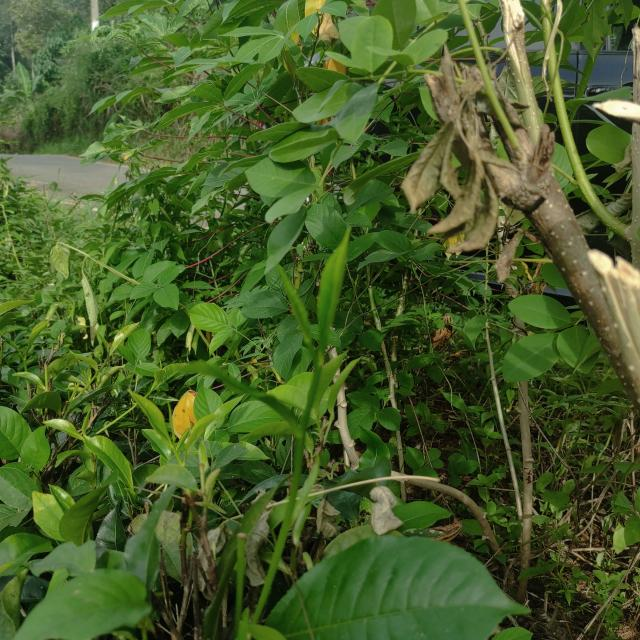unopened_leaf: (268, 261, 322, 372)
